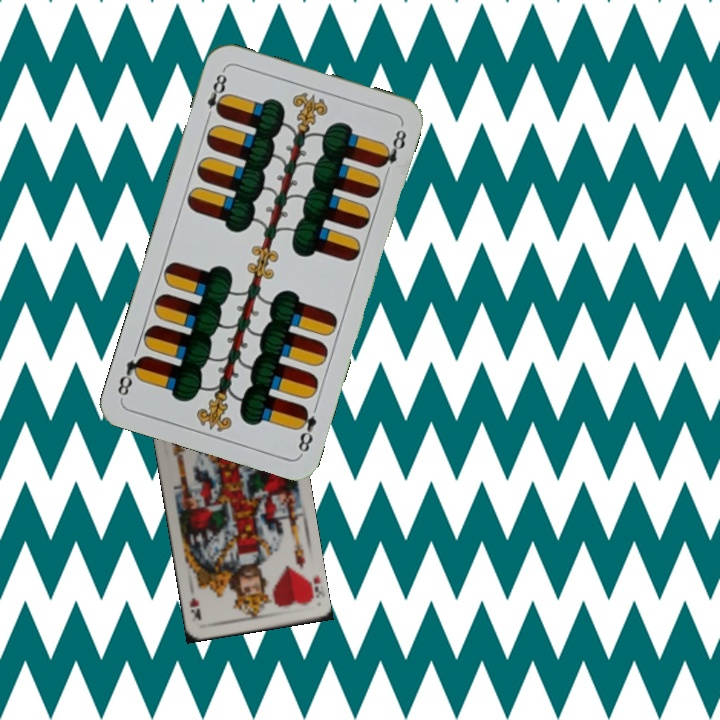E8: (202, 66, 230, 124), (292, 401, 320, 457)
HK: (301, 571, 325, 605)
